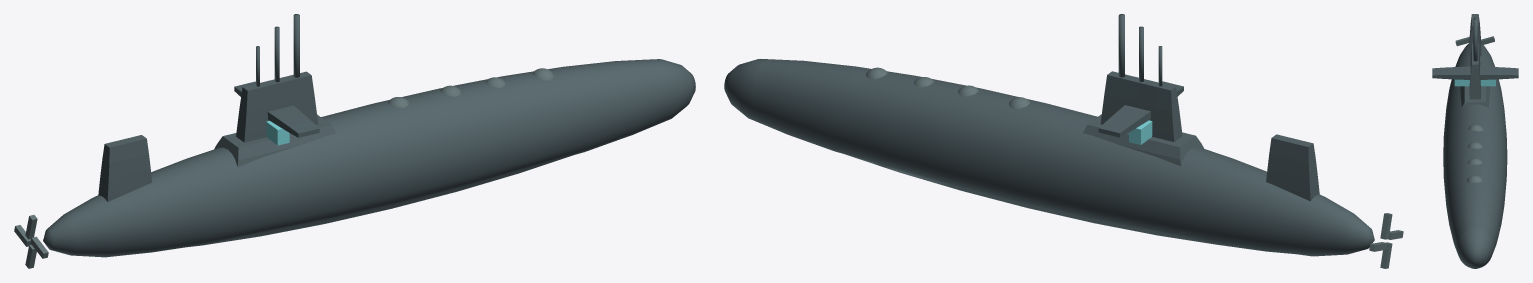
Rendered from submarine.glb.
The picture shows the model from 3 angles, left to right: view 1: azimuth 30°, elevation 25°; view 2: azimuth 150°, elevation 25°; view 3: azimuth 270°, elevation 25°; orthographic projection. The views are drawn at different scales.
Visible parts, largest first — view 1: Sphere, Cube.001, Cube.004, Cube, Cube.003, Cylinder, submarine_team_band; view 2: Sphere, Cube.001, Cube.004, Cube, Cube.002, Cylinder, submarine_team_band; view 3: Sphere, Cube.001, Cube.002, Cube.003, Cube, Cube.004, submarine_team_band, Cylinder, Sphere.004, 螺旋桨叶.002, Sphere.001, 螺旋桨叶 (+2 smaller).
Boxes of the visible parts, x1,y1,x2,y2 form: Sphere: (43,59,695,257); Cube.001: (236,71,318,142); Cube.004: (98,135,152,201); Cube: (214,114,335,167); Cube.003: (267,105,319,137); Cylinder: (293,14,299,77); submarine_team_band: (266,121,289,145); Sphere: (724,59,1374,256); Cube.001: (1100,71,1182,141); Cube.004: (1266,134,1319,201); Cube: (1083,114,1203,166); Cube.002: (1098,105,1150,137); Cylinder: (1118,14,1124,77); submarine_team_band: (1129,120,1152,144); Sphere: (1443,43,1507,268); Cube.001: (1469,43,1480,99); Cube.002: (1480,66,1518,79); Cube.003: (1432,66,1470,79); Cube: (1460,86,1490,107); Cube.004: (1469,14,1481,56); submarine_team_band: (1454,79,1495,86); Cylinder: (1473,18,1477,61); Sphere.004: (1467,175,1482,182); 螺旋桨叶.002: (1455,37,1469,46); Sphere.001: (1468,124,1483,131); 螺旋桨叶: (1481,36,1494,44).
Bounding box in the file's own units: 12.6 × 3.82 × 2.1.
